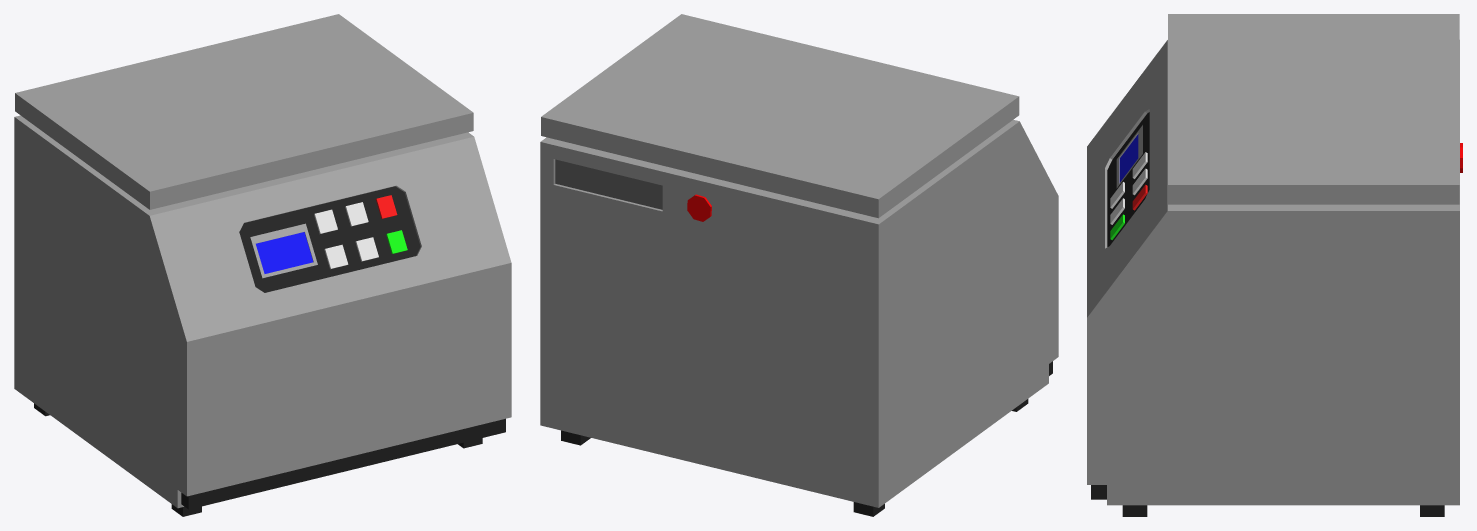
File: Int_ScienceDevice03.fbx
The picture shows the model from 3 angles, left to right: view 1: azimuth 30°, elevation 25°; view 2: azimuth 150°, elevation 25°; view 3: azimuth 270°, elevation 25°; orthographic projection. The views are drawn at different scales.
Parts seen in each view (by area): view 1: Int_ScienceDevice03; view 2: Int_ScienceDevice03; view 3: Int_ScienceDevice03.
Part boxes in pixels (x1,y1,x2,y2): Int_ScienceDevice03: (14, 14, 511, 516); Int_ScienceDevice03: (540, 14, 1058, 516); Int_ScienceDevice03: (1087, 14, 1462, 516).
Size of what is drawn, in the model's own units: 53.21 by 49.33 by 49.
